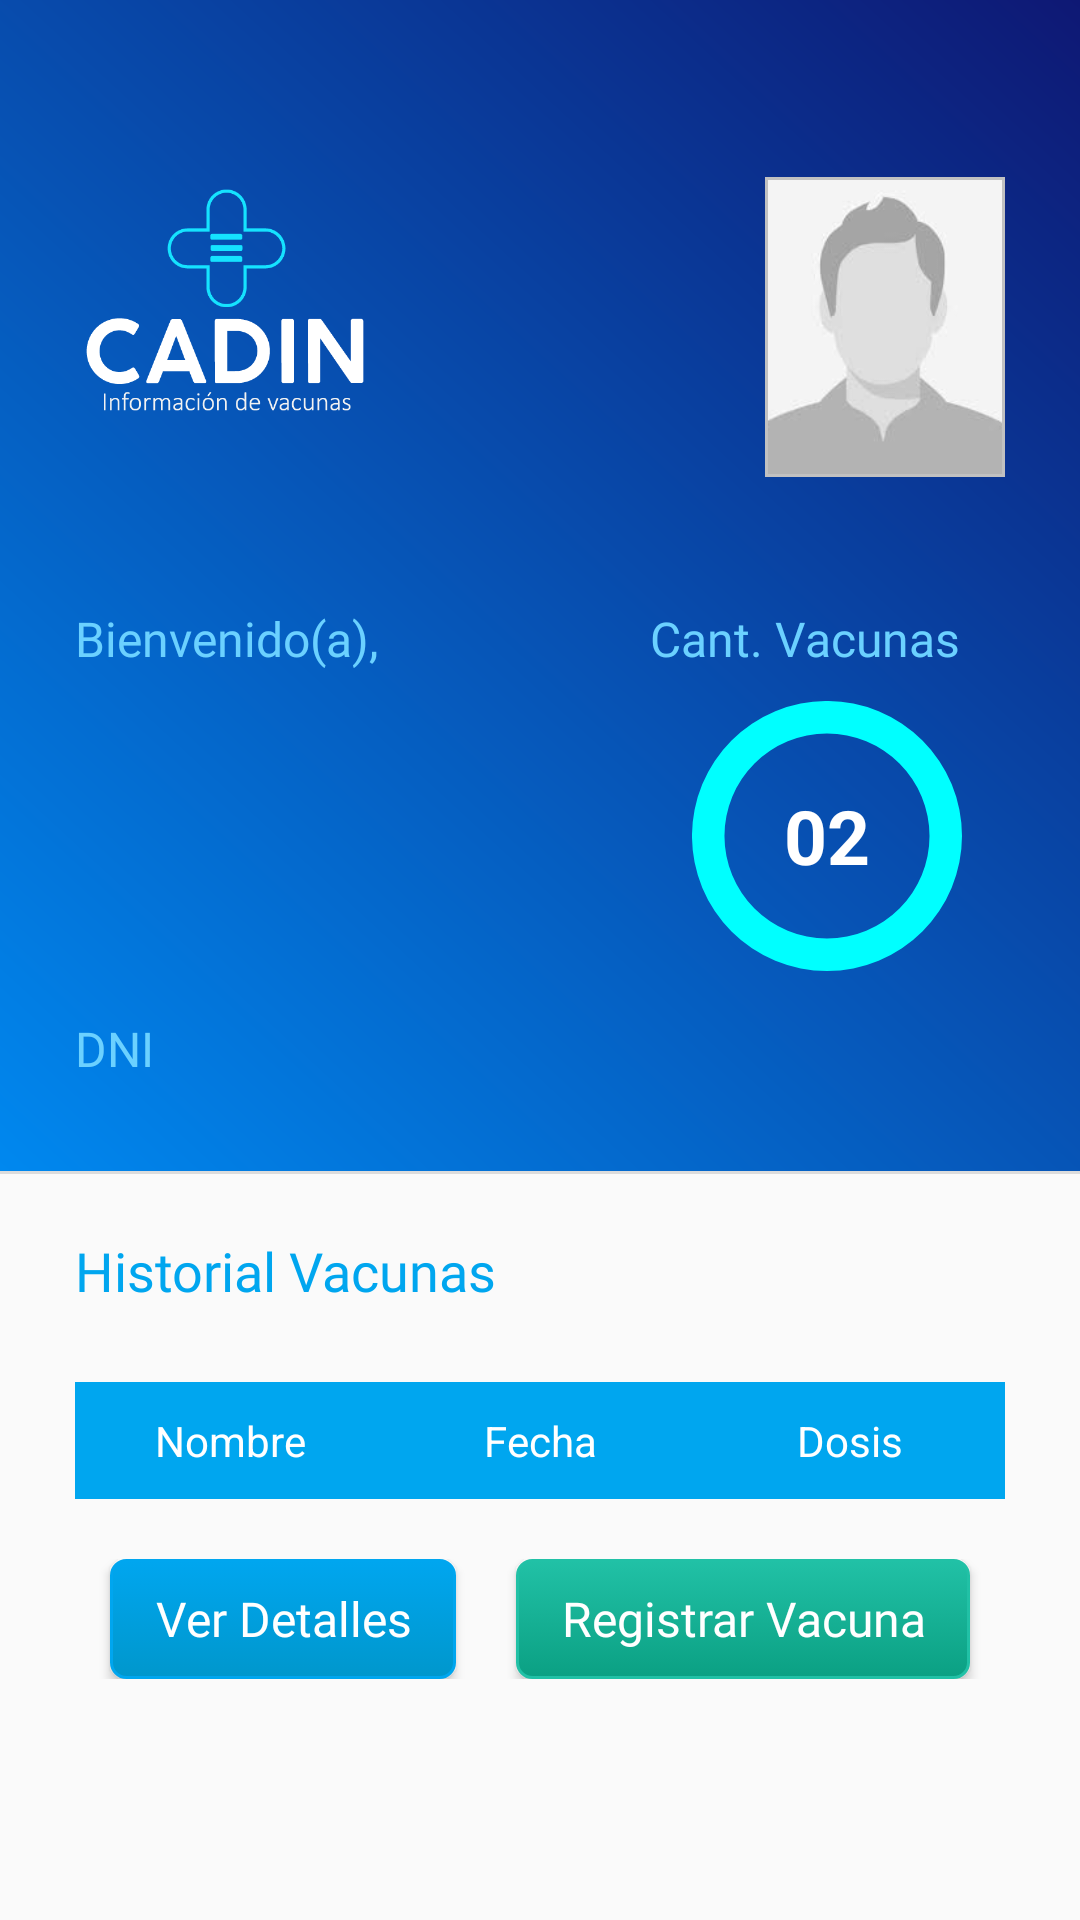

Screen size 1080px×1920px. Icon name, then its box in pixels as (x1, y1, x2, y2):
user photo: (765, 177, 1005, 477)
